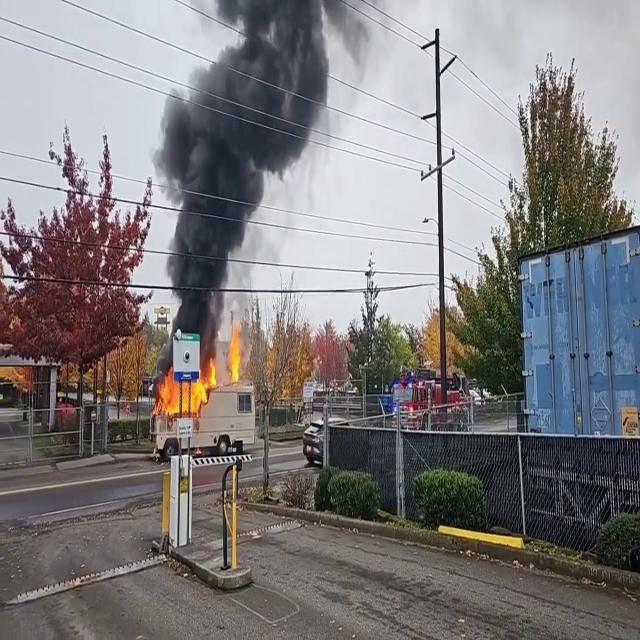Fire: (157, 358, 217, 417), (228, 322, 244, 384)
Smoke: (163, 0, 333, 340)
